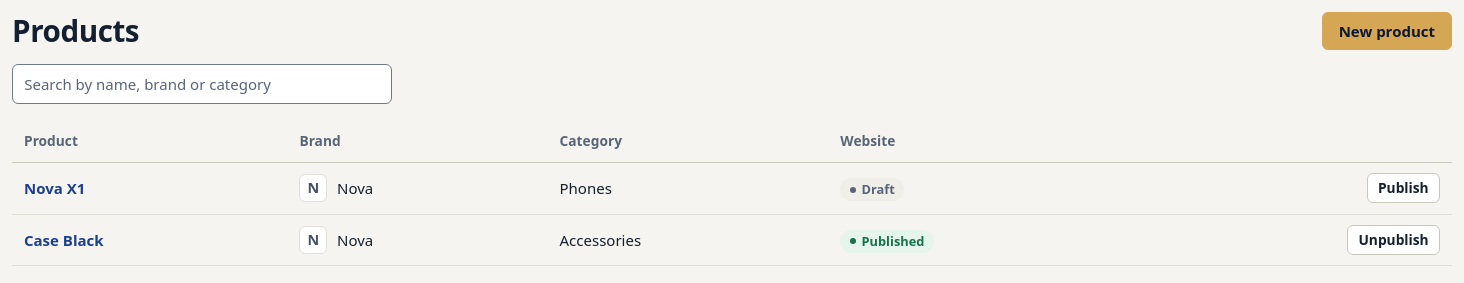
Test: ProductsPage › lists products with their website status and filters by search
Expected: the link "Nova X1" is shown, [24,178,85,198]
Expected: the text "Published" is shown, [840,230,934,253]
In the search field named "Search products": (202, 84) [12,64,392,104], type "accessories"
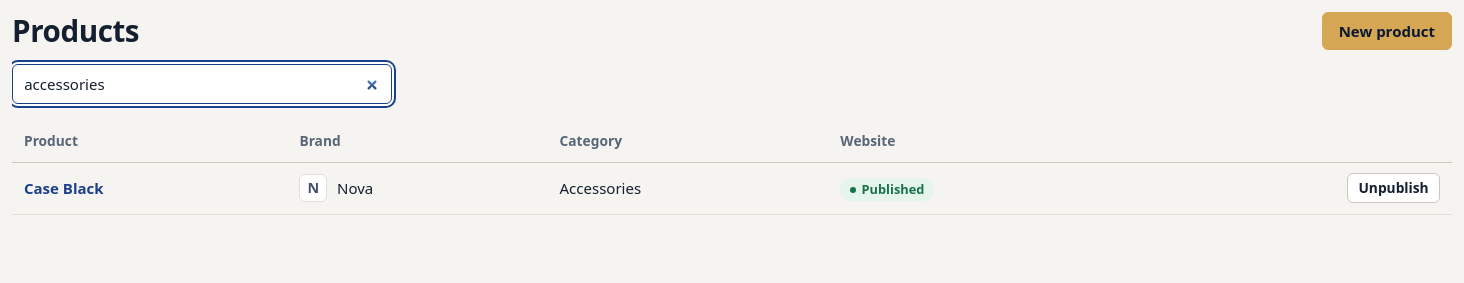
Expected: the link "Case Black" is shown, [24,178,104,198]
Result: the link "Nova X1" is gone
